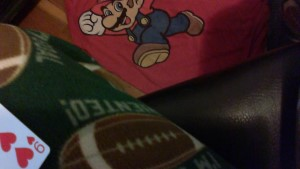NineOfHearts: (1, 103, 50, 168)
